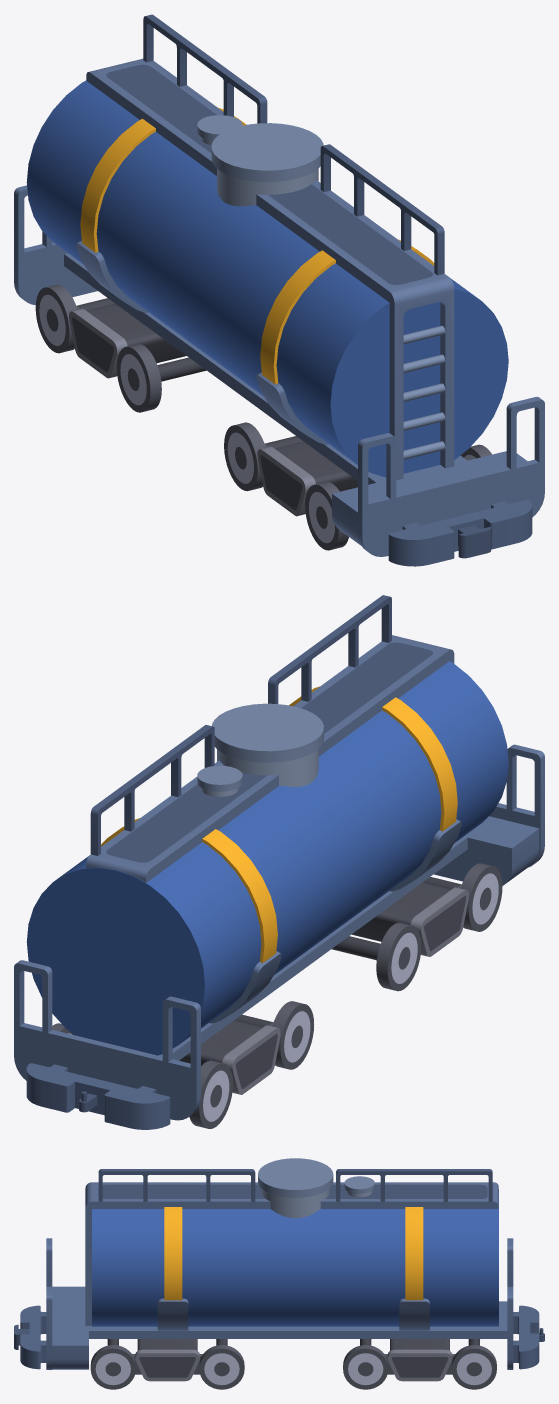
Rendered from Wagon Tank.fbx.
3 views of the same model, one above another, from view 1: azimuth 30°, elevation 25°; view 2: azimuth 150°, elevation 25°; view 3: azimuth 270°, elevation 25° (orthographic). The views are drawn at different scales.
Visible parts, largest first — view 1: Wagon Tank, Wagon Tank Cover, Wagon Tank Wheel.004, Wagon Tank Wheel.005, Wagon Tank Wheel.002, Wagon Tank Wheel.001, Wagon Tank Wheel.003, Wagon Tank Wheel, Wagon Tank Cover.001; view 2: Wagon Tank, Wagon Tank Cover, Wagon Tank Wheel.005, Wagon Tank Wheel.004, Wagon Tank Wheel.001, Wagon Tank Wheel, Wagon Tank Wheel.002, Wagon Tank Wheel.003, Wagon Tank Cover.001; view 3: Wagon Tank, Wagon Tank Wheel.005, Wagon Tank Wheel.004, Wagon Tank Cover, Wagon Tank Wheel.001, Wagon Tank Wheel.002, Wagon Tank Wheel, Wagon Tank Wheel.003, Wagon Tank Cover.001.
Boxes of the visible parts, x1,y1,x2,y2 form: Wagon Tank: (14,14,544,566); Wagon Tank Cover: (211,123,323,181); Wagon Tank Wheel.004: (69,304,186,378); Wagon Tank Wheel.005: (257,442,357,516); Wagon Tank Wheel.002: (116,344,206,412); Wagon Tank Wheel.001: (224,422,303,491); Wagon Tank Wheel.003: (35,284,115,353); Wagon Tank Wheel: (305,444,491,550); Wagon Tank Cover.001: (197,115,242,140); Wagon Tank: (14,595,544,1129); Wagon Tank Cover: (212,703,323,762); Wagon Tank Wheel.005: (351,882,468,956); Wagon Tank Wheel.004: (179,1020,280,1094); Wagon Tank Wheel.001: (331,922,421,991); Wagon Tank Wheel: (422,863,502,931); Wagon Tank Wheel.002: (234,1001,313,1069); Wagon Tank Wheel.003: (52,1023,232,1128); Wagon Tank Cover.001: (197,765,242,791); Wagon Tank: (14,1169,544,1369); Wagon Tank Wheel.005: (132,1339,202,1381); Wagon Tank Wheel.004: (384,1339,455,1381); Wagon Tank Cover: (258,1158,333,1197); Wagon Tank Wheel.001: (199,1339,244,1389); Wagon Tank Wheel.002: (343,1339,388,1389); Wagon Tank Wheel: (90,1339,135,1389); Wagon Tank Wheel.003: (451,1339,496,1389); Wagon Tank Cover.001: (344,1176,374,1193).
Bounding box in the file's own units: 2.69 × 4.17 × 9.95.
